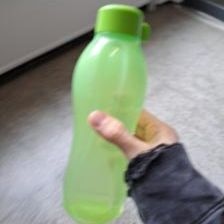bottle: (60, 5, 149, 224)
